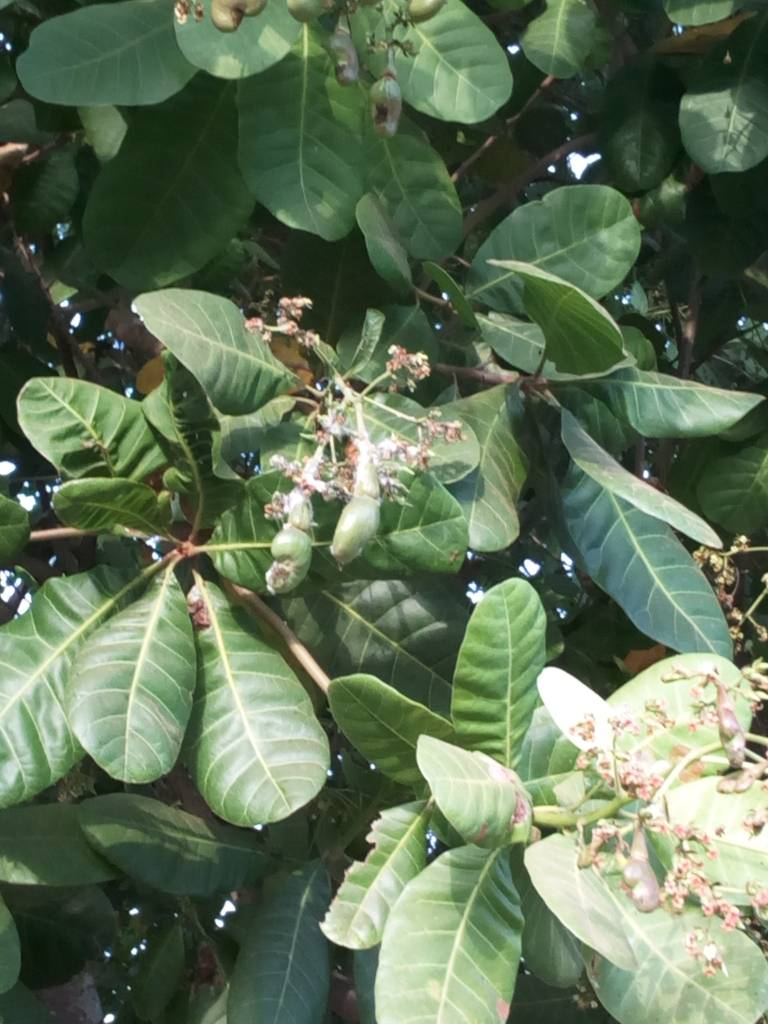Helopeltis anacardii: (268, 378, 385, 602), (24, 377, 157, 474), (54, 475, 179, 547)
